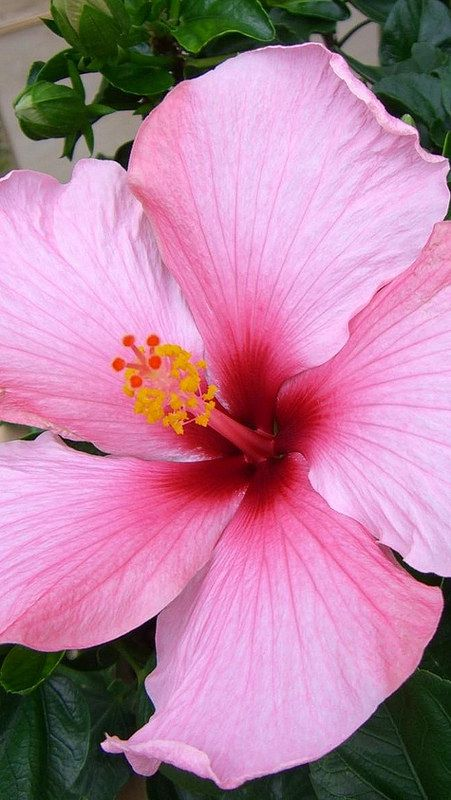Hibiscus: (1, 34, 451, 767), (7, 69, 122, 169)
